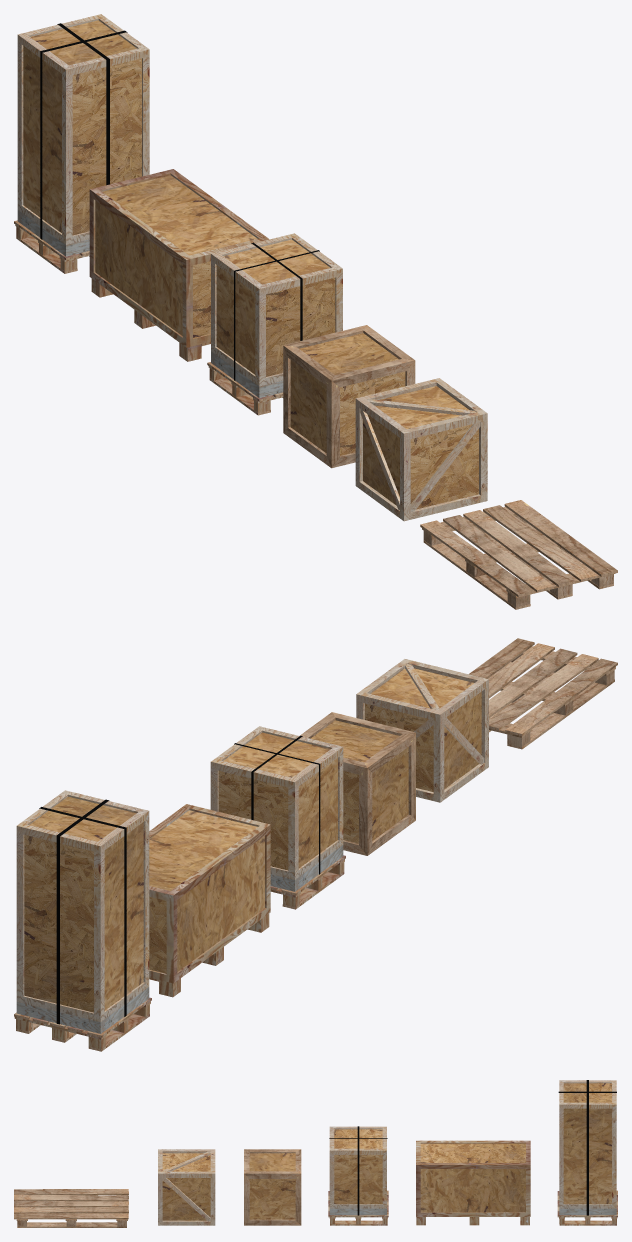
File: Crates.fbx
3 renders of one model, top to bottom at view 1: azimuth 30°, elevation 25°; view 2: azimuth 150°, elevation 25°; view 3: azimuth 270°, elevation 25°, orthographic. The views are drawn at different scales.
Parts seen in each view (by area): view 1: Crate_Big_Tall.4, Crate_Wide.4, Crate_Medium_Tall.4, Crate_Small.9, Euro_Pallette.4, Crate_Small.4; view 2: Crate_Big_Tall.4, Crate_Wide.4, Crate_Medium_Tall.4, Crate_Small.9, Crate_Small.4, Euro_Pallette.4; view 3: Crate_Wide.4, Crate_Big_Tall.4, Crate_Medium_Tall.4, Crate_Small.4, Crate_Small.9, Euro_Pallette.4.
Boxes of the visible parts, x1,y1,x2,y2 form: Crate_Big_Tall.4: [14, 14, 149, 273]; Crate_Wide.4: [89, 169, 269, 361]; Crate_Medium_Tall.4: [207, 233, 342, 415]; Crate_Small.9: [355, 378, 487, 521]; Euro_Pallette.4: [420, 500, 617, 609]; Crate_Small.4: [283, 325, 415, 468]; Crate_Big_Tall.4: [14, 790, 151, 1051]; Crate_Wide.4: [149, 804, 270, 997]; Crate_Medium_Tall.4: [210, 726, 345, 909]; Crate_Small.9: [356, 659, 488, 802]; Crate_Small.4: [299, 712, 415, 855]; Euro_Pallette.4: [469, 638, 617, 749]; Crate_Wide.4: [416, 1140, 530, 1225]; Crate_Big_Tall.4: [557, 1080, 617, 1225]; Crate_Medium_Tall.4: [328, 1126, 388, 1225]; Crate_Small.4: [244, 1149, 301, 1225]; Crate_Small.9: [158, 1149, 215, 1225]; Euro_Pallette.4: [14, 1189, 128, 1227].
Bounding box in the file's own units: 242 × 467 × 2107.
Materials: 2 (1 with a texture image).
